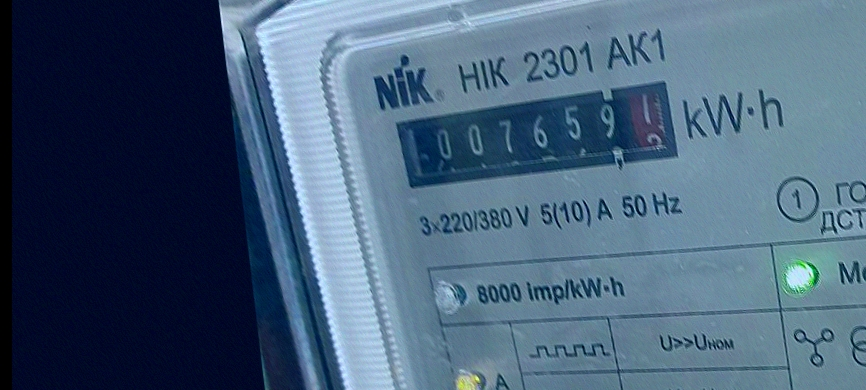0: (465, 119, 489, 161), (434, 124, 458, 164)
1: (635, 89, 659, 128)
5: (561, 102, 588, 144)
6: (528, 110, 555, 153)
7: (495, 115, 522, 156)
9: (597, 100, 623, 142)
screen: (387, 74, 688, 200)
